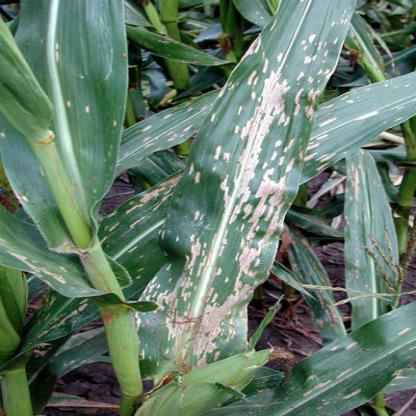corn gray leaf spot: (138, 1, 364, 396), (44, 7, 143, 217), (77, 79, 241, 180), (275, 301, 414, 415), (332, 141, 397, 344), (299, 70, 413, 183)
